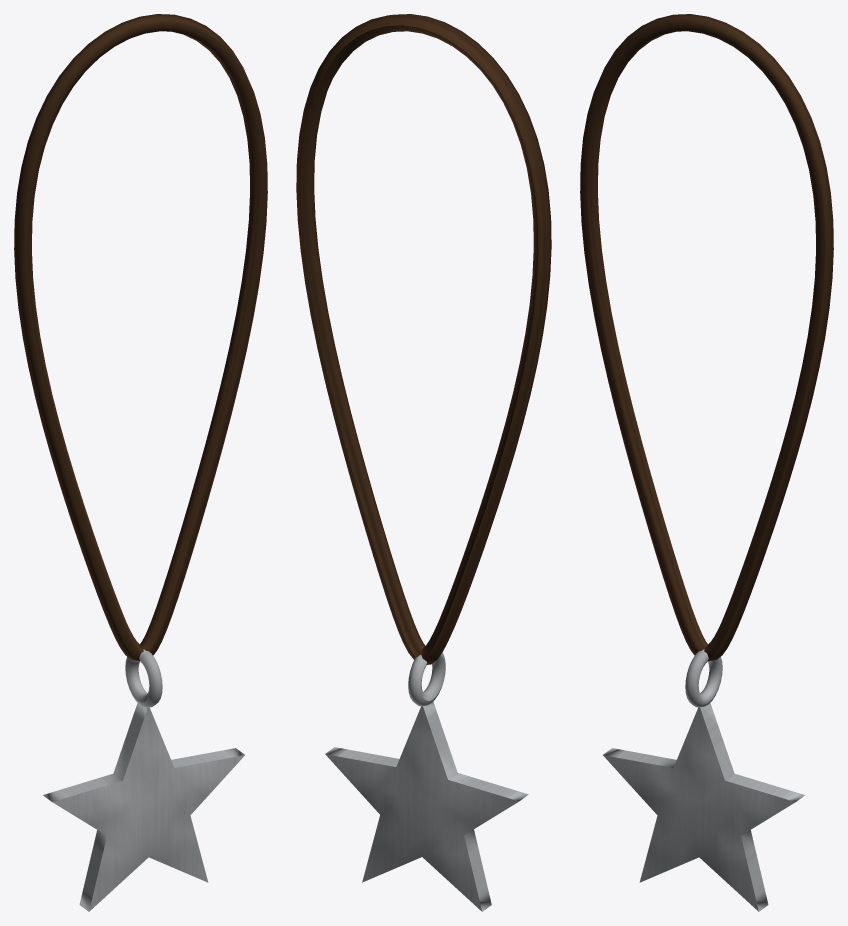
The model's file is StarAmulet.glb.
The picture shows the model from 3 angles, left to right: view 1: azimuth 30°, elevation 25°; view 2: azimuth 150°, elevation 25°; view 3: azimuth 330°, elevation 25°; orthographic projection.
Parts seen in each view (by area): view 1: StarAmulet; view 2: StarAmulet; view 3: StarAmulet.
Boxes of the visible parts, x1,y1,x2,y2 form: StarAmulet: [14, 14, 267, 911]; StarAmulet: [296, 14, 551, 911]; StarAmulet: [580, 14, 833, 911].
Size of the model in its own units: 0.5447 by 1.81 by 0.116.
Materials: 1 (1 with a texture image).
